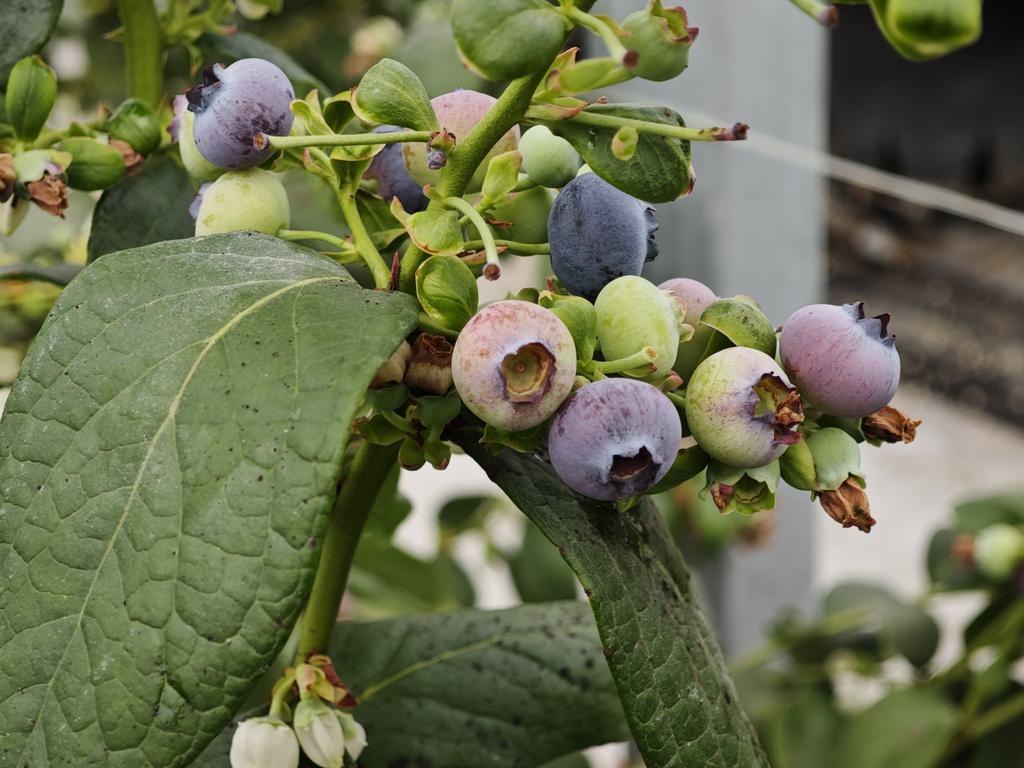RipeBlueBerry: (546, 376, 684, 505), (544, 170, 662, 293), (181, 55, 297, 172)
Semi-RipeBlueBerry: (450, 300, 579, 431), (780, 299, 912, 415)
UnripeBlueBerry: (684, 343, 803, 468), (590, 272, 684, 379)
